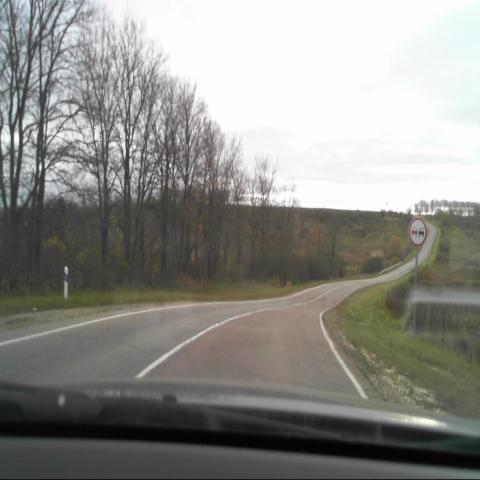3_20: (408, 216, 427, 247)
